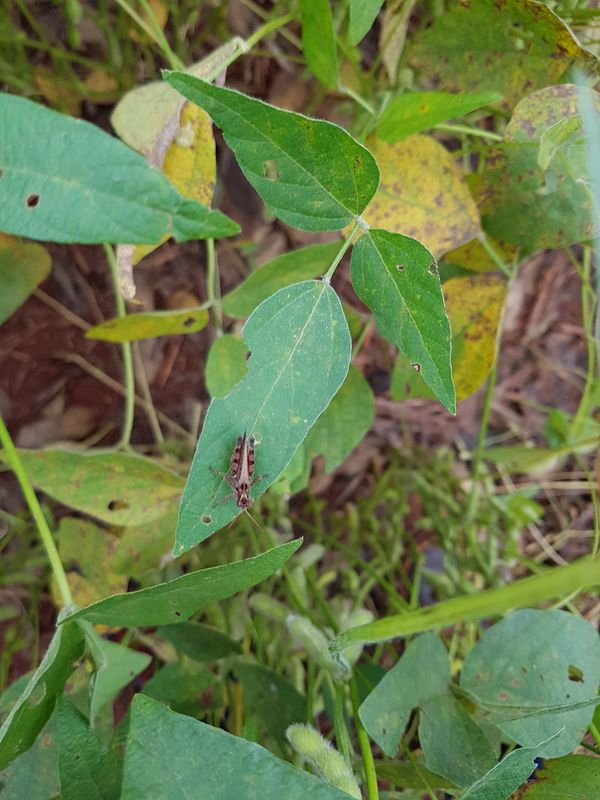Rhammatocerus_schistocercoides: (199, 423, 280, 534)
